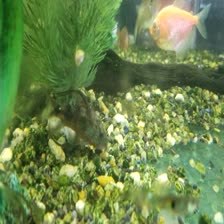Kiros: (38, 85, 115, 153)
Plano: (144, 1, 201, 46)
